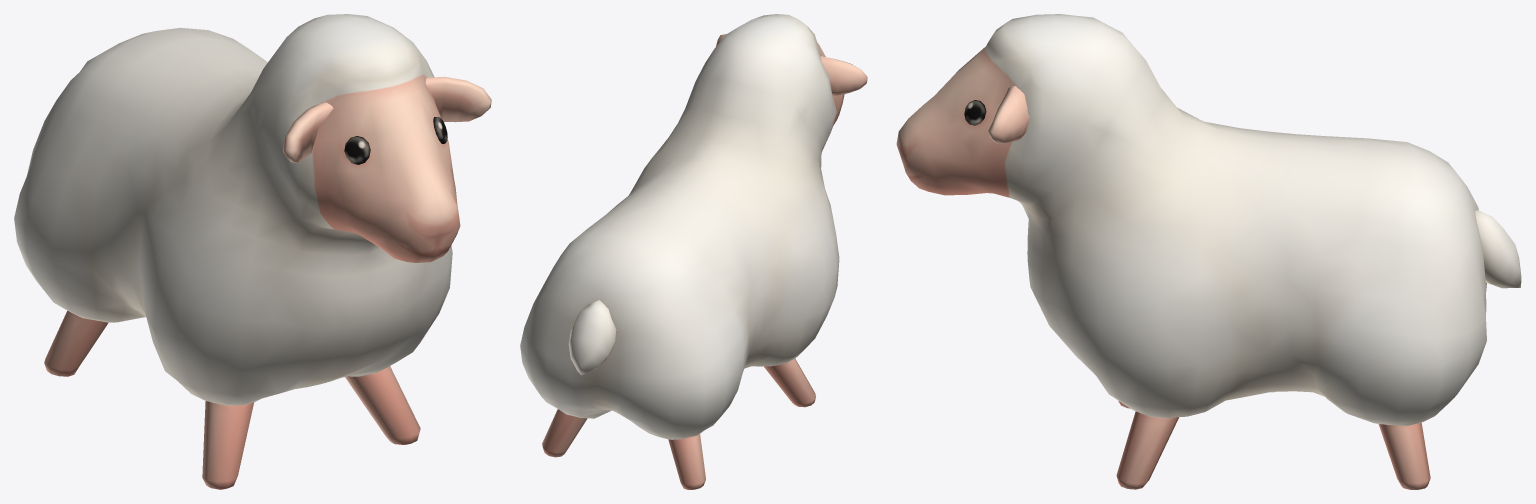
File: GaoYang.FBX
3 views of the same model, side by side, from view 1: azimuth 30°, elevation 25°; view 2: azimuth 150°, elevation 25°; view 3: azimuth 270°, elevation 25° (orthographic). The views are drawn at different scales.
Parts seen in each view (by area): view 1: GaoYang; view 2: GaoYang; view 3: GaoYang.
Boxes of the visible parts, x1=… form: GaoYang: x1=14, y1=14, x2=491, y2=489; GaoYang: x1=520, y1=14, x2=867, y2=489; GaoYang: x1=896, y1=14, x2=1521, y2=489.
Size of the model in its own units: 47.75 by 77.08 by 102.
Materials: 1 (1 with a texture image).
